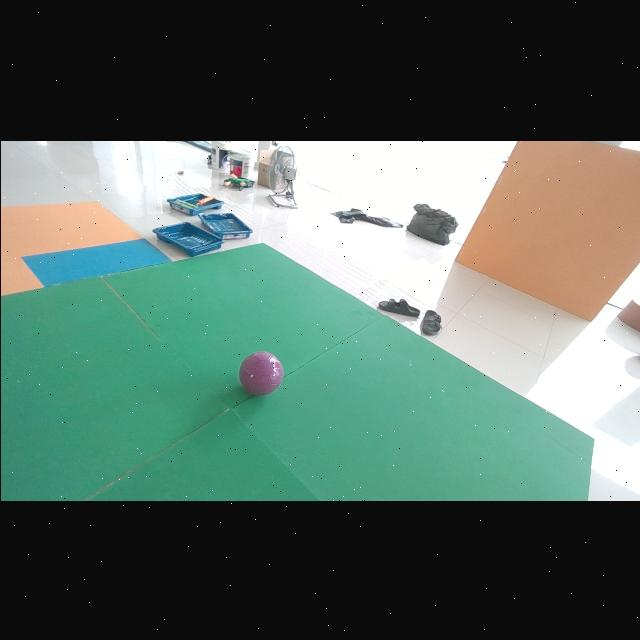P: (239, 350, 282, 394)
